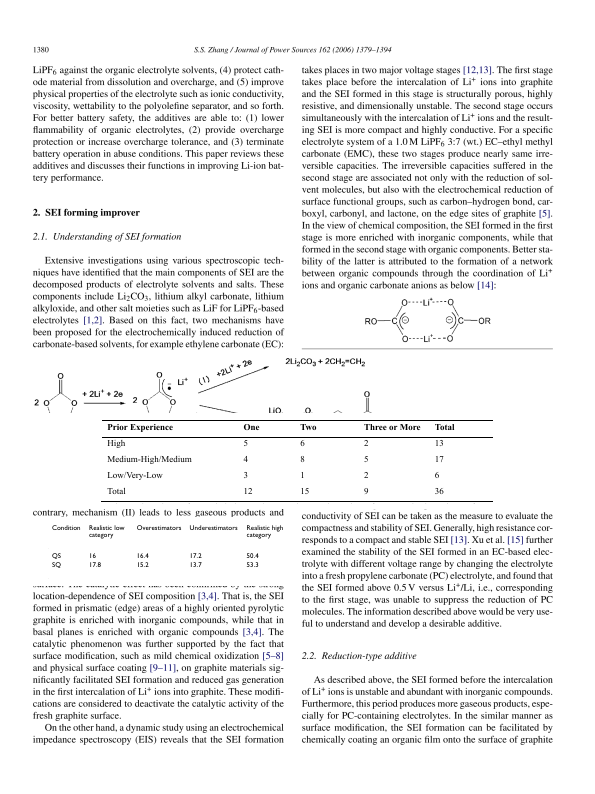borderless: (101, 418, 493, 501), (46, 522, 286, 580)
cell: (106, 455, 192, 465), (106, 422, 173, 432), (245, 524, 284, 540), (87, 524, 125, 540), (362, 422, 421, 432), (106, 471, 163, 481), (188, 524, 238, 533), (135, 524, 182, 533), (51, 524, 81, 533), (433, 422, 455, 432), (106, 439, 126, 449), (106, 487, 126, 497), (242, 422, 260, 432), (299, 422, 317, 432), (135, 552, 149, 561), (188, 552, 202, 561), (245, 552, 259, 561), (87, 561, 101, 570), (135, 561, 149, 570), (188, 561, 202, 570), (245, 561, 259, 570), (433, 439, 444, 449), (433, 455, 444, 465), (242, 487, 253, 497), (299, 487, 310, 497), (433, 487, 444, 497), (51, 552, 61, 561), (51, 561, 61, 570), (87, 552, 96, 561), (362, 439, 369, 449), (362, 455, 369, 465), (362, 471, 369, 481), (433, 471, 440, 481), (362, 487, 369, 497), (242, 439, 248, 449), (299, 439, 305, 449), (242, 455, 248, 465), (299, 455, 305, 465), (242, 471, 248, 481), (299, 471, 305, 481)
